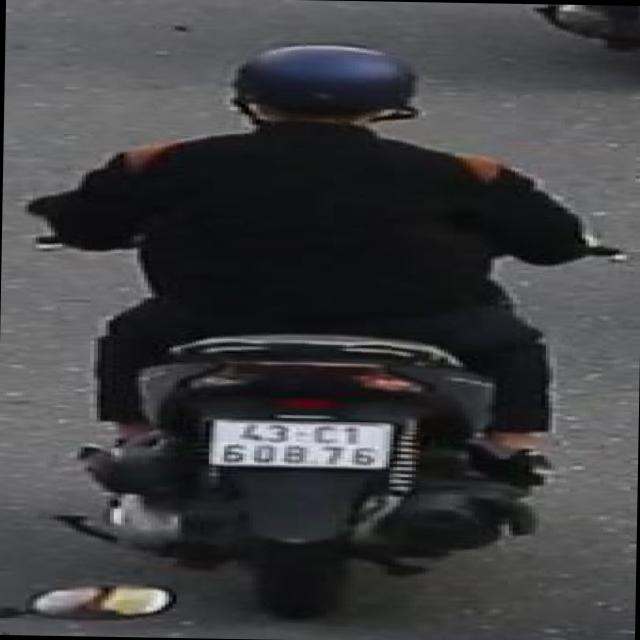LP: (193, 412, 405, 474)
helmet: (212, 39, 428, 140)
